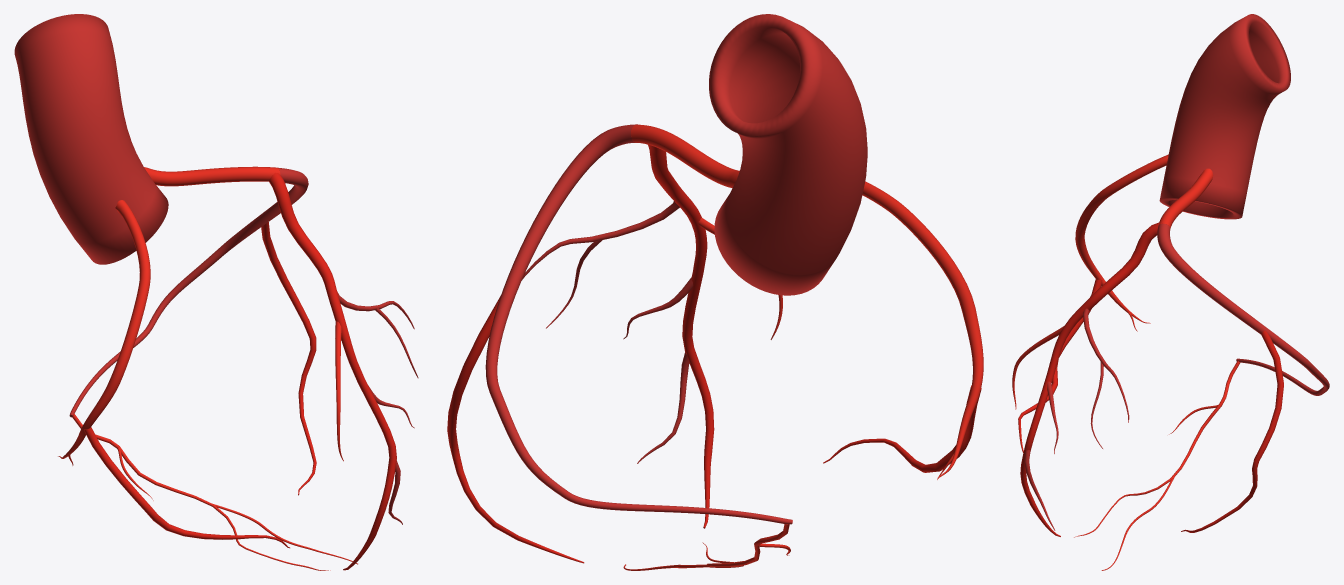
The model's file is newLeftHeart.gltf.
The picture shows the model from 3 angles, left to right: view 1: azimuth 30°, elevation 25°; view 2: azimuth 150°, elevation 25°; view 3: azimuth 270°, elevation 25°; orthographic projection. The views are drawn at different scales.
Visible parts, largest first — view 1: aorta_new, LAD, RCA, LCx, LM, Rbig2, RMA, PDAtail, septal, diaginal1; view 2: aorta_new, LCx, LAD, RCA, Rbig2, LM, diaginal1, RMA, PDAtail; view 3: aorta_new, LAD, LCx, RCA, Rbig2, PDAtail, LM, diaginal1, RMA, septal.
Part boxes in pixels (left/top/right/bottom): aorta_new: left=14, top=14, right=168, bottom=264; LAD: left=269, top=172, right=396, bottom=570; RCA: left=58, top=200, right=150, bottom=465; LCx: left=69, top=167, right=308, bottom=417; LM: left=144, top=166, right=280, bottom=186; Rbig2: left=261, top=222, right=316, bottom=495; RMA: left=84, top=427, right=289, bottom=548; PDAtail: left=72, top=413, right=357, bottom=570; septal: left=335, top=321, right=343, bottom=461; diaginal1: left=337, top=291, right=418, bottom=378; aorta_new: left=709, top=14, right=867, bottom=295; LCx: left=485, top=124, right=792, bottom=524; LAD: left=647, top=144, right=714, bottom=528; RCA: left=862, top=181, right=983, bottom=479; Rbig2: left=447, top=295, right=584, bottom=563; LM: left=631, top=124, right=739, bottom=188; diaginal1: left=522, top=201, right=679, bottom=328; RMA: left=823, top=385, right=981, bottom=472; PDAtail: left=623, top=524, right=790, bottom=570; aorta_new: left=1159, top=14, right=1290, bottom=219; LAD: left=1020, top=222, right=1159, bottom=536; LCx: left=1157, top=223, right=1329, bottom=395; RCA: left=1075, top=154, right=1168, bottom=331; Rbig2: left=1181, top=330, right=1283, bottom=532; PDAtail: left=1074, top=361, right=1240, bottom=570; LM: left=1158, top=168, right=1213, bottom=228; diaginal1: left=1083, top=308, right=1129, bottom=448; RMA: left=1018, top=279, right=1102, bottom=452; septal: left=1012, top=326, right=1063, bottom=409.
Bounding box in the file's own units: 1.98 × 2.93 × 1.81.
